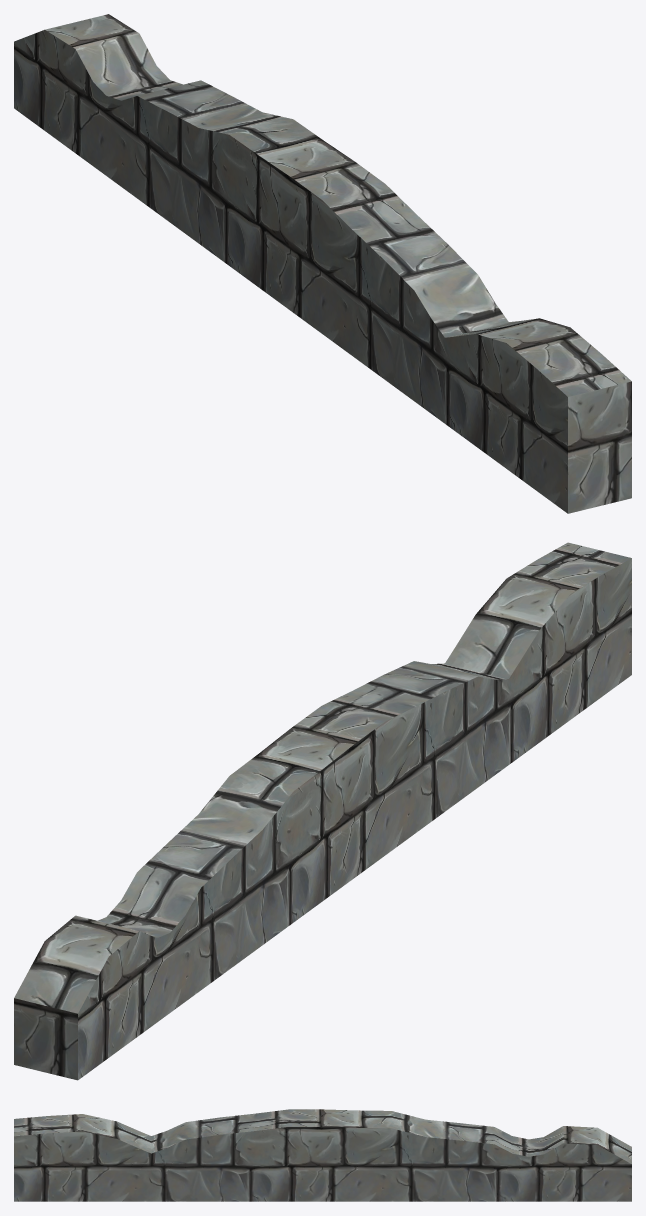
File: Muralla02.FBX
The picture shows the model from 3 angles, top to bottom: view 1: azimuth 30°, elevation 25°; view 2: azimuth 150°, elevation 25°; view 3: azimuth 270°, elevation 25°; orthographic projection. The views are drawn at different scales.
Visible parts, largest first — view 1: Box001; view 2: Box001; view 3: Box001.
Boxes of the visible parts, <box> form: Box001: <box>14,14,631,513</box>; Box001: <box>14,542,631,1080</box>; Box001: <box>14,1109,631,1201</box>.
Bounding box in the file's own units: 1 × 2 × 15.
